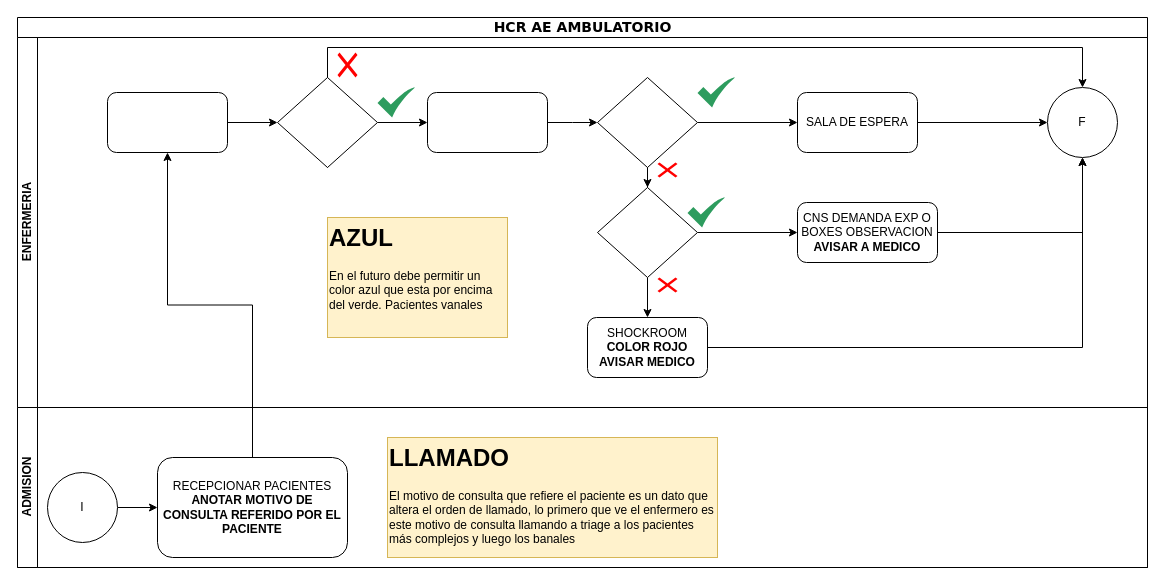
This 1165x585 diagram has some shape labels left out. Each missing label, with the centre of its shape:
ES AMARILLO: (x=647, y=232)
ES VERDE: (x=647, y=122)
ESTA PRESENTE: (x=327, y=122)
LLAMAR PACIENTE: (x=167, y=122)
REALIZAR TRIAJE: (x=487, y=122)
